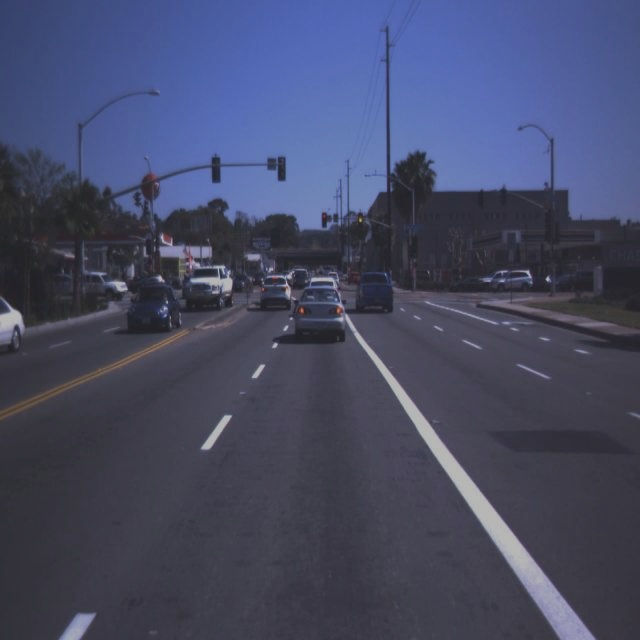stop left: (320, 213, 328, 227), (144, 240, 150, 252)
stop left traffic light: (320, 213, 328, 227), (144, 240, 150, 252)
warning: (356, 211, 364, 226)
warning traffic light: (356, 211, 364, 226)
